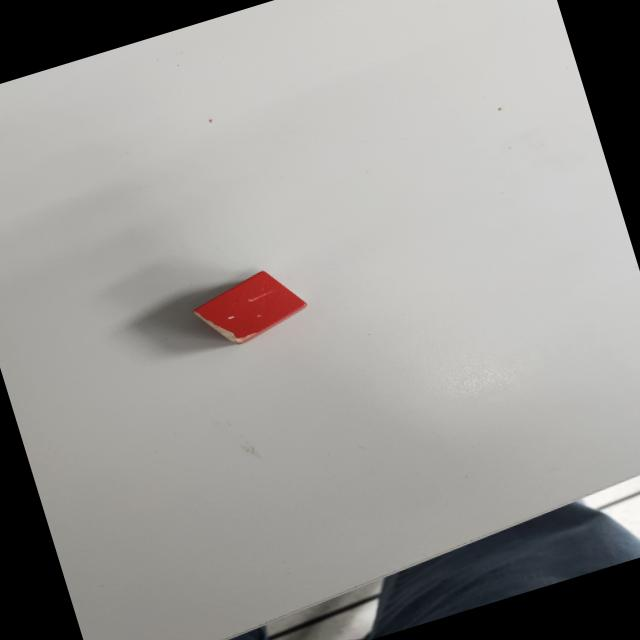broken: (184, 260, 312, 354)
